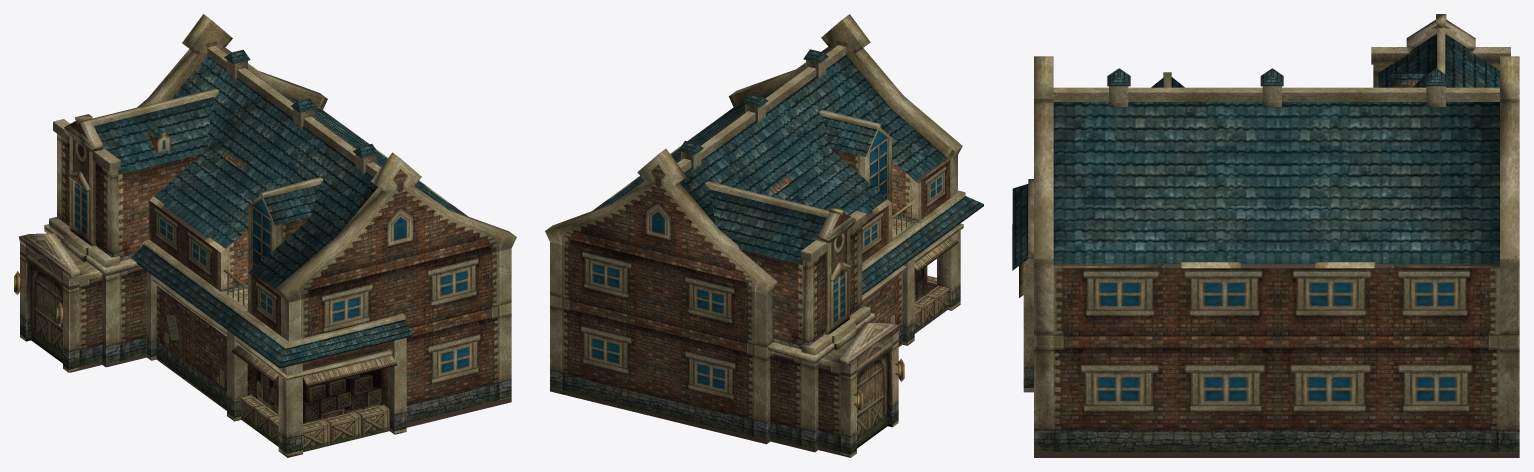
File: m_hbf011.obj
3 renders of one model, left to right at view 1: azimuth 30°, elevation 25°; view 2: azimuth 150°, elevation 25°; view 3: azimuth 270°, elevation 25°, orthographic. The views are drawn at different scales.
Visible parts, largest first — view 1: m_a; view 2: m_a; view 3: m_a.
Part boxes in pixels (<box>): m_a: <box>14,14,516,457</box>; m_a: <box>545,14,983,457</box>; m_a: <box>1012,14,1519,457</box>.
Bounding box in the file's own units: 62.3 × 51.1 × 70.11.
Materials: 1 (1 with a texture image).
